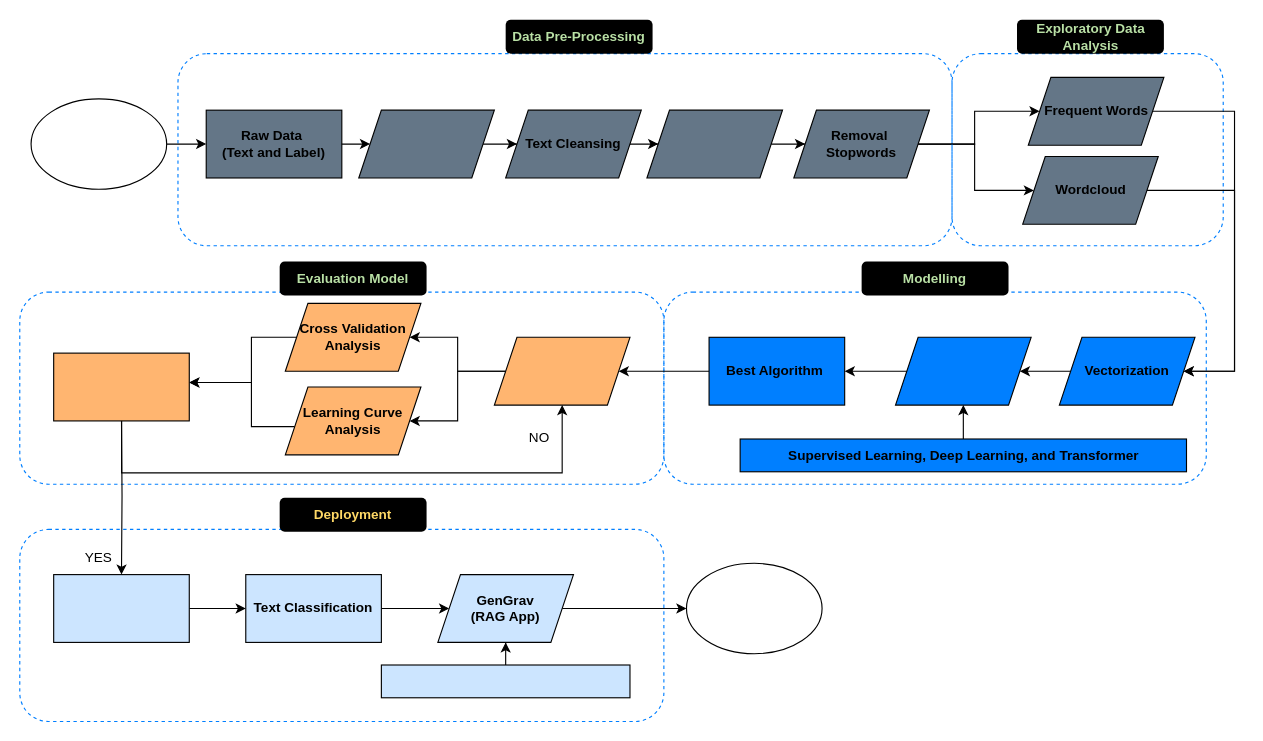
Image size: 1263x741. Some labels were removed from this diagram. Here are the shapes that lost their labels. From the top down, the centre of each, then its label:
point 98,143: Start
point 426,143: Case Folding
point 714,143: Stemming
point 121,386: Evaluation Metrics (Confusion Matrix)
point 561,370: Tuning Hyperparameter (Grid Search)
point 962,370: Quick Modelling
point 121,607: Save Model
point 753,608: Stop
point 505,681: Hugging Face API
